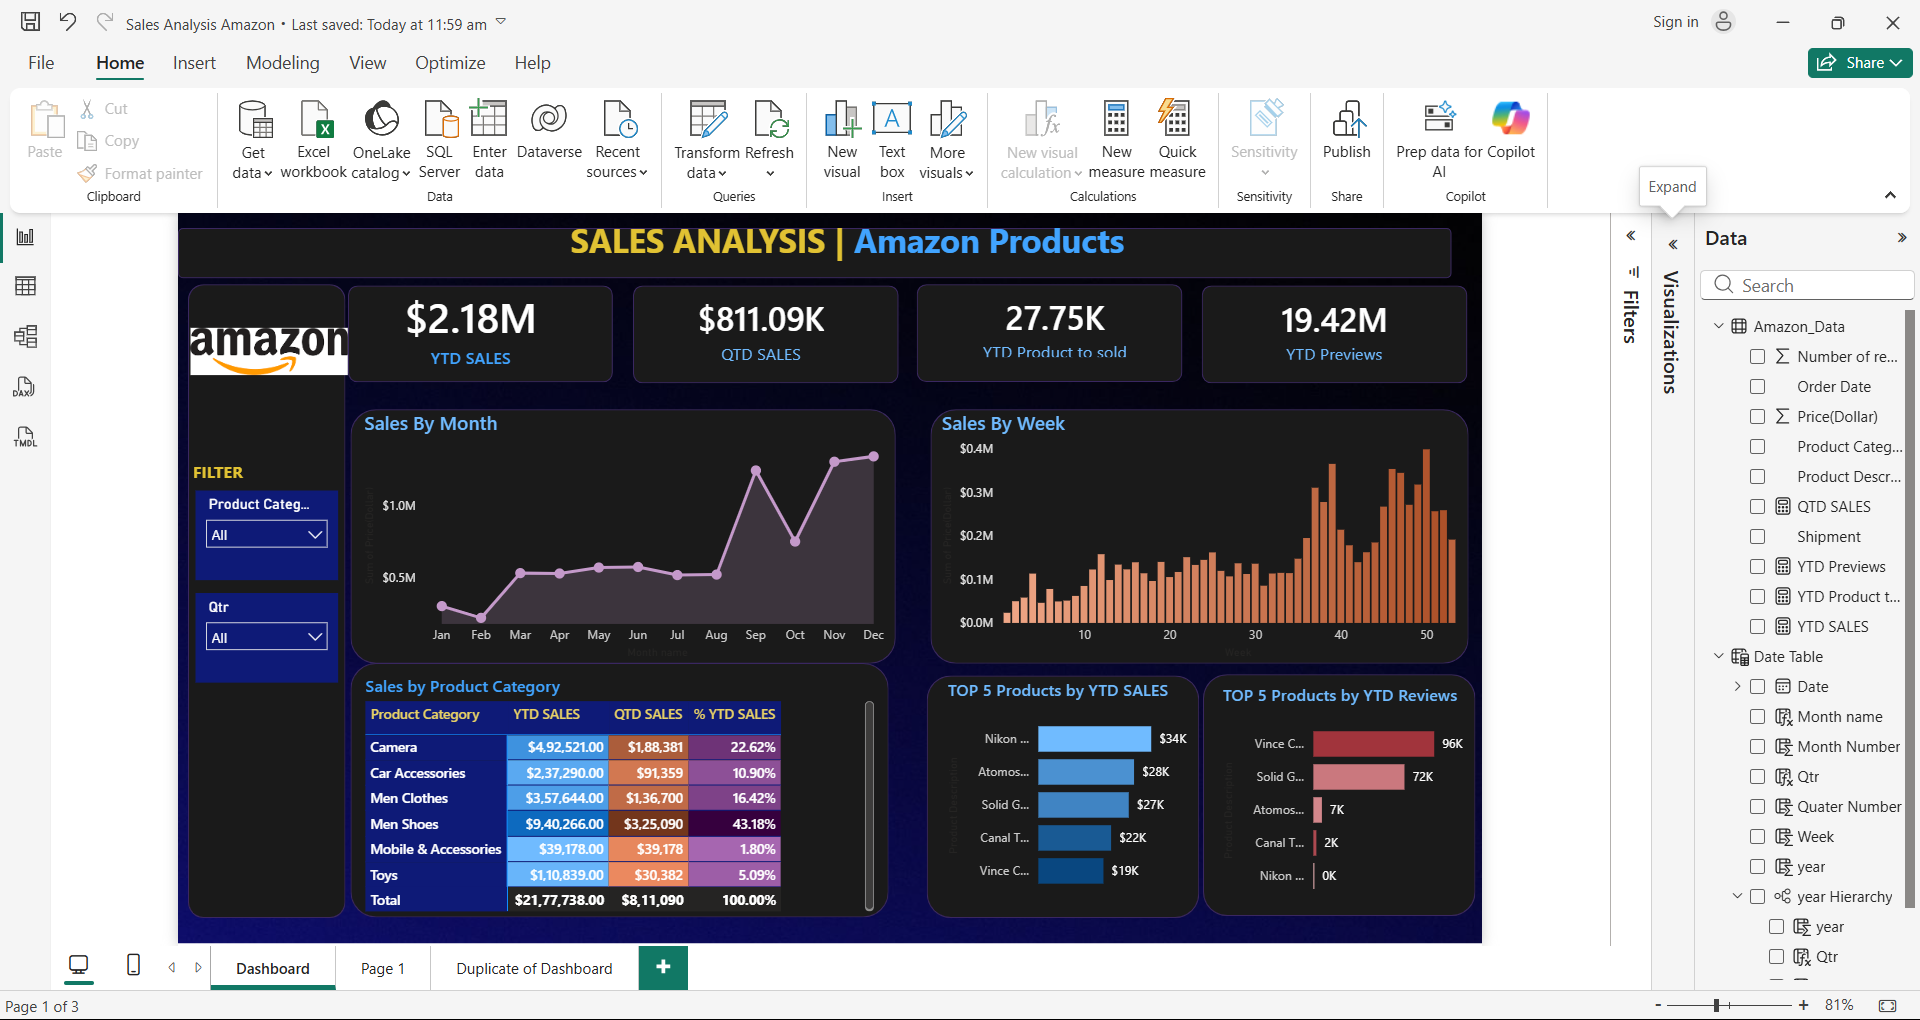

Layout of this report page (visuals, bound fields, positions):
{"tool":"powerbi","page":{"name":"Sales Analysis","canvas":[1280,720],"ordinal":0},"visuals":[{"type":"shape","box":[0,15.1,1250.1,49.4],"z":0},{"type":"cardVisual","fields":{"Data":["Amazon_Data.YTD SALES"]},"box":[164.4,57.2,247,111.1],"z":0,"group":"g2"},{"type":"shape","box":[9.8,69.9,154.6,622.1],"z":500},{"type":"shape","box":[726.1,70,260.7,96.1],"z":500,"group":"g1"},{"type":"cardVisual","fields":{"Data":["Amazon_Data.YTD Product to sold"]},"box":[739.9,66.7,242.3,91.9],"z":1000,"group":"g2"},{"type":"cardVisual","fields":{"Data":["Amazon_Data.YTD Previews"]},"box":[1010.9,69.3,248.4,91.9],"z":3000,"group":"g2"},{"type":"shape","box":[168.8,192.1,535.2,249.7],"z":3000},{"type":"cardVisual","fields":{"Data":["Amazon_Data.QTD SALES"]},"box":[450.6,65.1,244.3,100.2],"z":3500,"group":"g2"},{"type":"shape","box":[167.4,71.4,260,95],"z":3500,"group":"g1"},{"type":"shape","box":[447.3,71.4,260.7,96.1],"z":3750,"group":"g1"},{"type":"group","id":"g1","title":"Group 1","box":[167.4,70,1099.1,97.4],"z":4000},{"type":"group","id":"g2","title":"Group 2","box":[164.4,57.2,1094.9,111.1],"z":5000},{"type":"shape","box":[1005.8,71.4,260.7,96.1],"z":5500,"group":"g1"},{"type":"areaChart","title":"Sales By Month","fields":{"Category":["Date Table.Month name"],"Y":["Sum(Amazon_Data.Price(Dollar))"]},"box":[178.4,192.1,525.6,249.7],"z":6000},{"type":"shape","box":[738.3,192.1,528.3,249.7],"z":7000},{"type":"columnChart","title":"Sales By Week","fields":{"Category":["Date Table.Week"],"Y":["Sum(Amazon_Data.Price(Dollar))"]},"box":[745.1,192.1,535.2,249.7],"z":8000},{"type":"shape","box":[168.8,441.9,528.3,249.7],"z":9000},{"type":"pivotTable","title":"Sales by Product Category","fields":{"Rows":["Amazon_Data.Product Category"],"Values":["Amazon_Data.YTD SALES","Amazon_Data.QTD SALES","Divide(Amazon_Data.YTD SALES, ScopedEval(Amazon_Data.YTD SALES, []))"]},"box":[179.1,452.8,509.2,238],"z":10000},{"type":"shape","box":[1005.8,452.8,267.6,237.4],"z":11000},{"type":"shape","box":[735,454,267.5,238],"z":12000},{"type":"clusteredBarChart","title":"TOP 5 Products by YTD SALES  ","fields":{"Category":["Amazon_Data.Product Description"],"Y":["Amazon_Data.YTD SALES"]},"box":[750.6,456.9,252.5,220.9],"z":13000},{"type":"clusteredBarChart","title":"TOP 5 Products by YTD Reviews","fields":{"Category":["Amazon_Data.Product Description"],"Y":["Amazon_Data.YTD Previews"]},"box":[1020.9,461.1,252.5,220.9],"z":14000},{"type":"slicer","fields":{"Values":["Amazon_Data.Product Category"]},"box":[17.2,272.4,139.9,88.3],"z":15000},{"type":"slicer","fields":{"Values":["Date Table.Qtr"]},"box":[17.2,373,139.9,88.3],"z":16000},{"type":"image","box":[12.3,68.7,154.6,133.7],"z":17000},{"type":"textbox","box":[380.4,0,563.2,57.7],"z":18000},{"type":"textbox","box":[9.8,238,77.3,34.4],"z":18500}]}

Visuals, with their boxes on the page's 1280x720 design canvas (x1, y1, x2, y2). These are canvas units, not pixel positions in the 1920x1020 screenshot, which may show the page scaled, cropped or inside an application window:
shape: (x1=0, y1=15, x2=1250, y2=64)
cardVisual - Amazon_Data.YTD SALES: (x1=164, y1=57, x2=411, y2=168)
shape: (x1=10, y1=70, x2=164, y2=692)
shape: (x1=726, y1=70, x2=987, y2=166)
cardVisual - Amazon_Data.YTD Product to sold: (x1=740, y1=67, x2=982, y2=159)
cardVisual - Amazon_Data.YTD Previews: (x1=1011, y1=69, x2=1259, y2=161)
shape: (x1=169, y1=192, x2=704, y2=442)
cardVisual - Amazon_Data.QTD SALES: (x1=451, y1=65, x2=695, y2=165)
shape: (x1=167, y1=71, x2=427, y2=166)
shape: (x1=447, y1=71, x2=708, y2=168)
"Group 1" group: (x1=167, y1=70, x2=1266, y2=167)
"Group 2" group: (x1=164, y1=57, x2=1259, y2=168)
shape: (x1=1006, y1=71, x2=1266, y2=168)
"Sales By Month" areaChart: (x1=178, y1=192, x2=704, y2=442)
shape: (x1=738, y1=192, x2=1267, y2=442)
"Sales By Week" columnChart: (x1=745, y1=192, x2=1280, y2=442)
shape: (x1=169, y1=442, x2=697, y2=692)
"Sales by Product Category" pivotTable: (x1=179, y1=453, x2=688, y2=691)
shape: (x1=1006, y1=453, x2=1273, y2=690)
shape: (x1=735, y1=454, x2=1002, y2=692)
"TOP 5 Products by YTD SALES  " clusteredBarChart: (x1=751, y1=457, x2=1003, y2=678)
"TOP 5 Products by YTD Reviews" clusteredBarChart: (x1=1021, y1=461, x2=1273, y2=682)
slicer - Amazon_Data.Product Category: (x1=17, y1=272, x2=157, y2=361)
slicer - Date Table.Qtr: (x1=17, y1=373, x2=157, y2=461)
image: (x1=12, y1=69, x2=167, y2=202)
textbox: (x1=380, y1=0, x2=944, y2=58)
textbox: (x1=10, y1=238, x2=87, y2=272)
